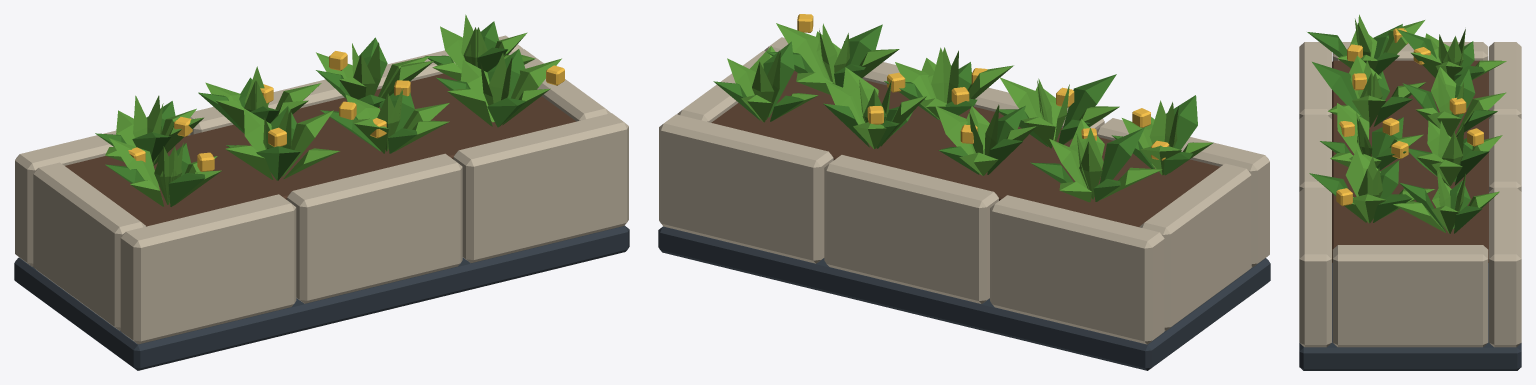
The model's file is Court_Planter.fbx.
3 renders of one model, left to right at view 1: azimuth 30°, elevation 25°; view 2: azimuth 150°, elevation 25°; view 3: azimuth 270°, elevation 25°, orthographic. The views are drawn at different scales.
Parts seen in each view (by area): view 1: Concrete, Leaf, Soil, FrameDark, LeafDark, Amber; view 2: Concrete, Leaf, Soil, FrameDark, LeafDark, Amber; view 3: Concrete, Leaf, Soil, LeafDark, FrameDark, Amber.
Part boxes in pixels (x1,y1,x2,y2): Concrete: (15, 35, 628, 344); Leaf: (105, 14, 561, 206); Soil: (65, 73, 575, 226); FrameDark: (14, 225, 629, 370); LeafDark: (95, 21, 526, 206); Amber: (128, 51, 564, 171); Concrete: (659, 37, 1269, 344); Leaf: (727, 23, 1213, 202); Soil: (711, 70, 1219, 227); FrameDark: (658, 226, 1270, 370); LeafDark: (713, 24, 1197, 201); Amber: (797, 14, 1169, 160); Concrete: (1299, 42, 1521, 347); Leaf: (1328, 14, 1506, 233); Soil: (1332, 60, 1488, 262); LeafDark: (1307, 24, 1497, 233); FrameDark: (1299, 263, 1521, 370); Amber: (1336, 28, 1483, 206).
Size of the model in its own units: 6 by 2.18 by 2.6.
